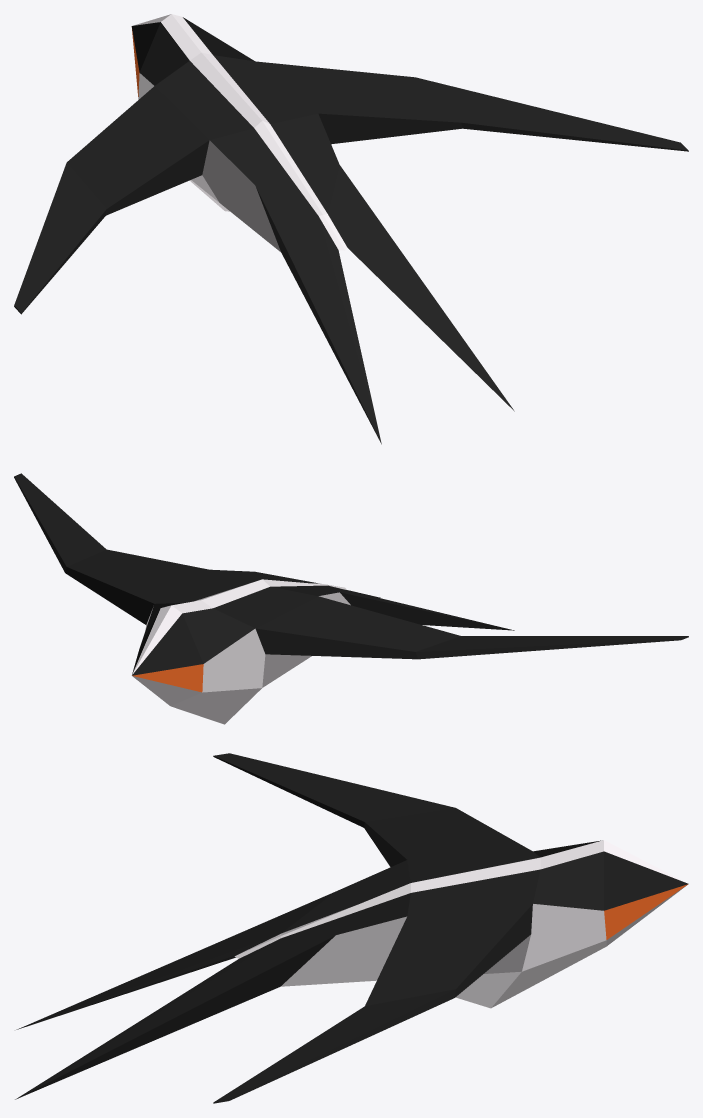
The model's file is bird.fbx.
The picture shows the model from 3 angles, top to bottom: view 1: azimuth 30°, elevation 25°; view 2: azimuth 150°, elevation 25°; view 3: azimuth 270°, elevation 25°; orthographic projection. The views are drawn at different scales.
Visible parts, largest first — view 1: 平面; view 2: 平面; view 3: 平面.
Part boxes in pixels (left/top/right/bottom): 平面: left=14, top=14, right=688, bottom=444; 平面: left=14, top=473, right=688, bottom=724; 平面: left=15, top=753, right=688, bottom=1103.
Bounding box in the file's own units: 156 × 47.35 × 128.
